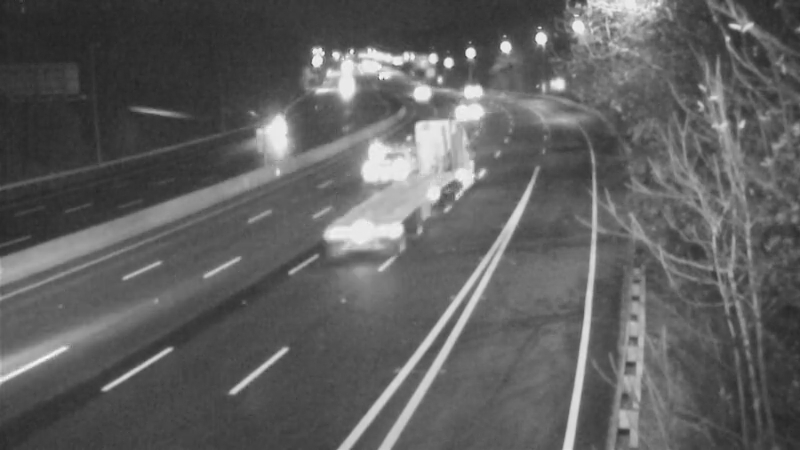vehicle: (345, 136, 425, 216), (365, 166, 445, 246), (447, 67, 497, 117), (394, 69, 444, 119), (441, 88, 491, 138), (376, 119, 426, 169), (245, 107, 295, 157)
